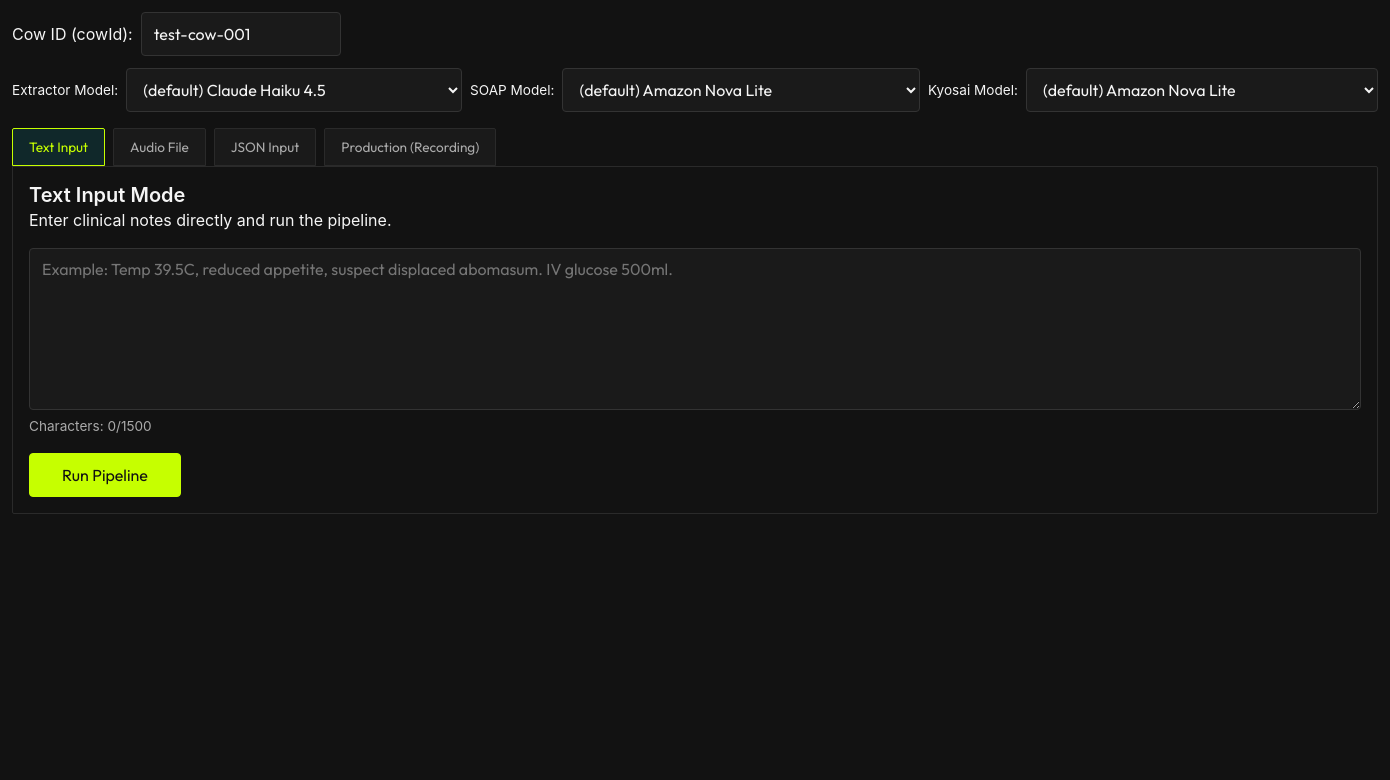
PipelineEntryForm component › validation errors › displays validation error for empty JSON input
Note: Switch to JSON input tab
Click the tab "JSON Input": (265,147) [214,128,316,166]
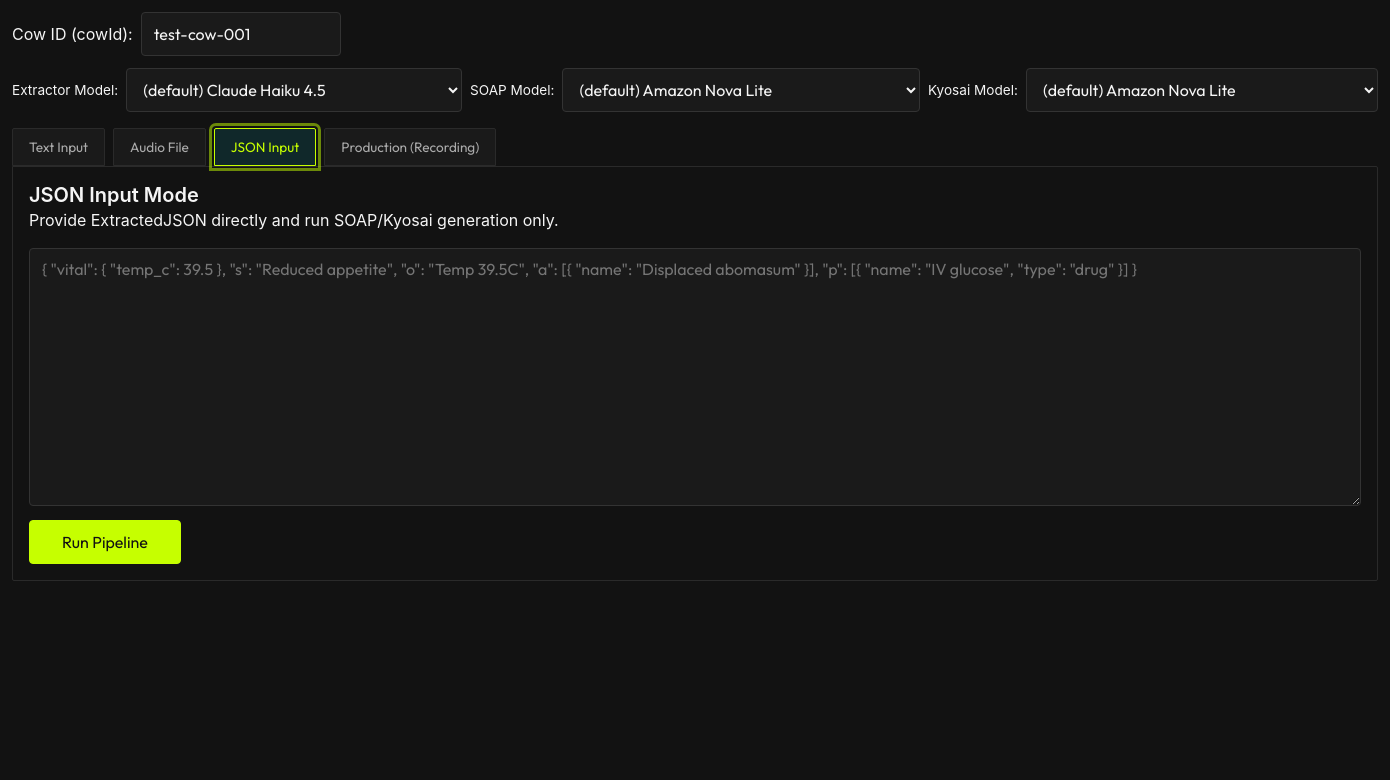
Click the button "Run Pipeline": (105,542) [29,520,181,564]
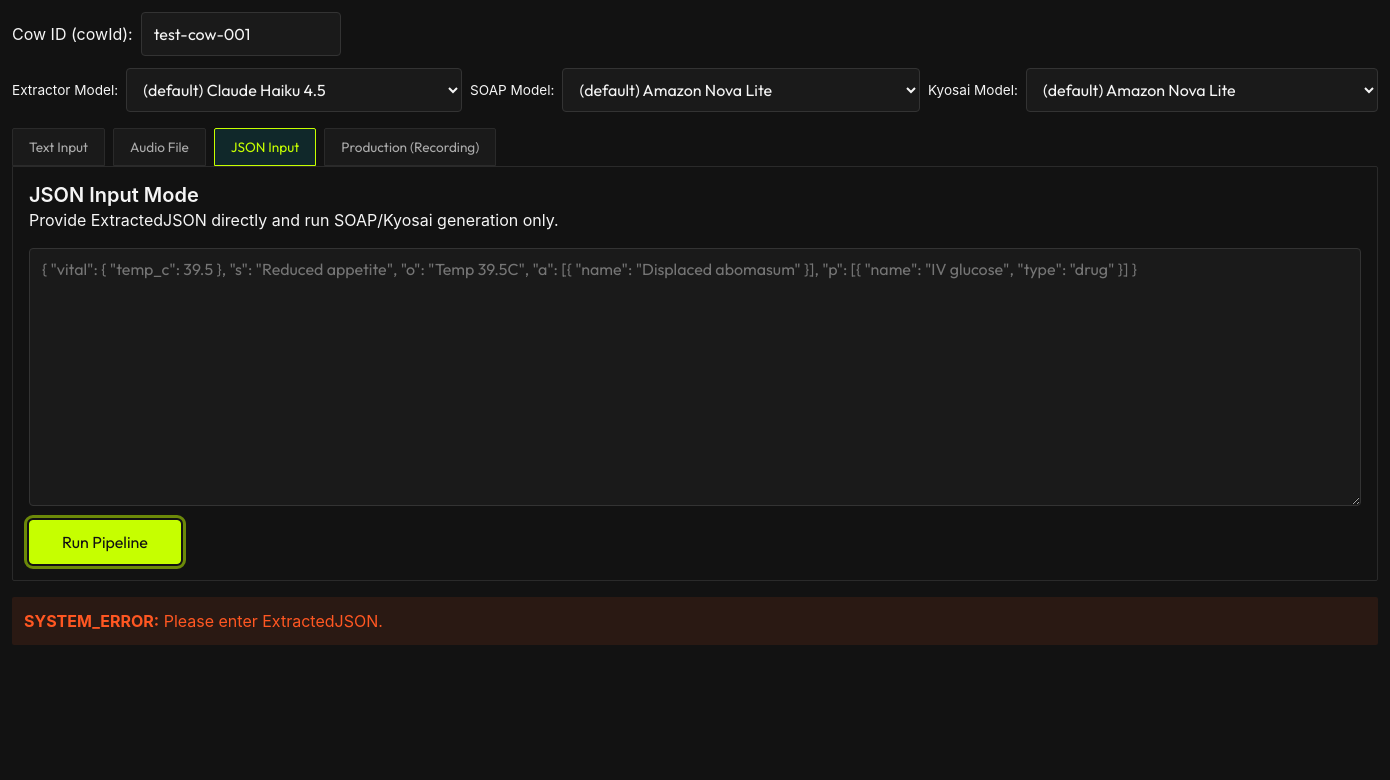
Now the message shows "Please enter ExtractedJSON.", box [164,611,383,631]
